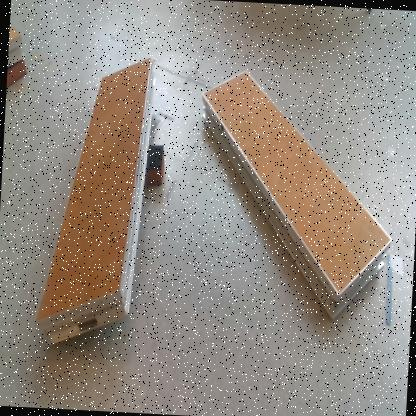Stairs: (201, 70, 395, 324), (36, 57, 157, 353), (8, 23, 24, 69)
